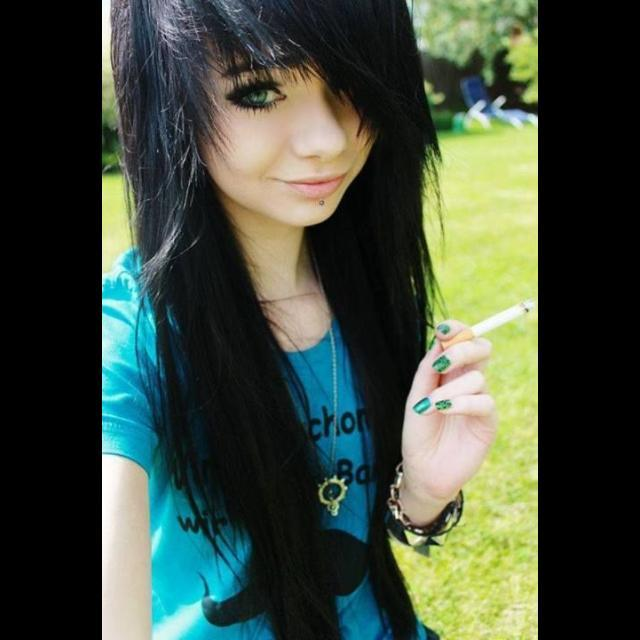rokok: (436, 296, 532, 356)
